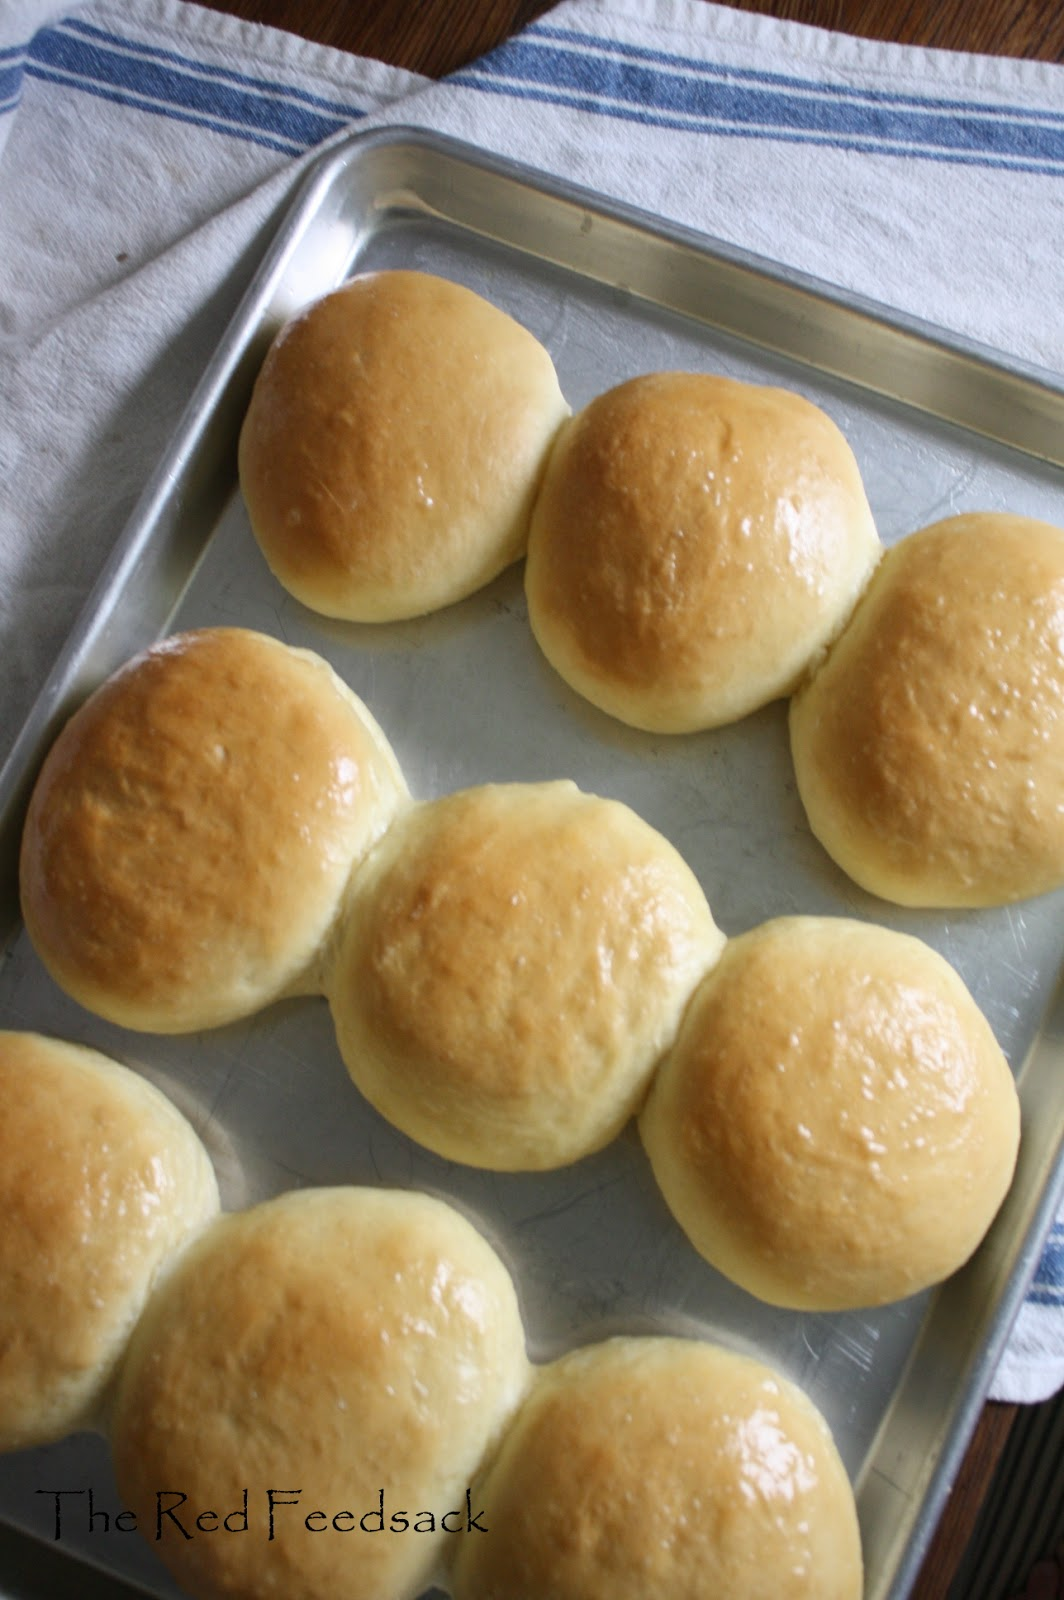hamburger_buns: (53, 586, 446, 1049), (638, 895, 1045, 1325), (308, 719, 689, 1149), (220, 222, 555, 669), (543, 364, 867, 782), (780, 494, 1064, 936)
